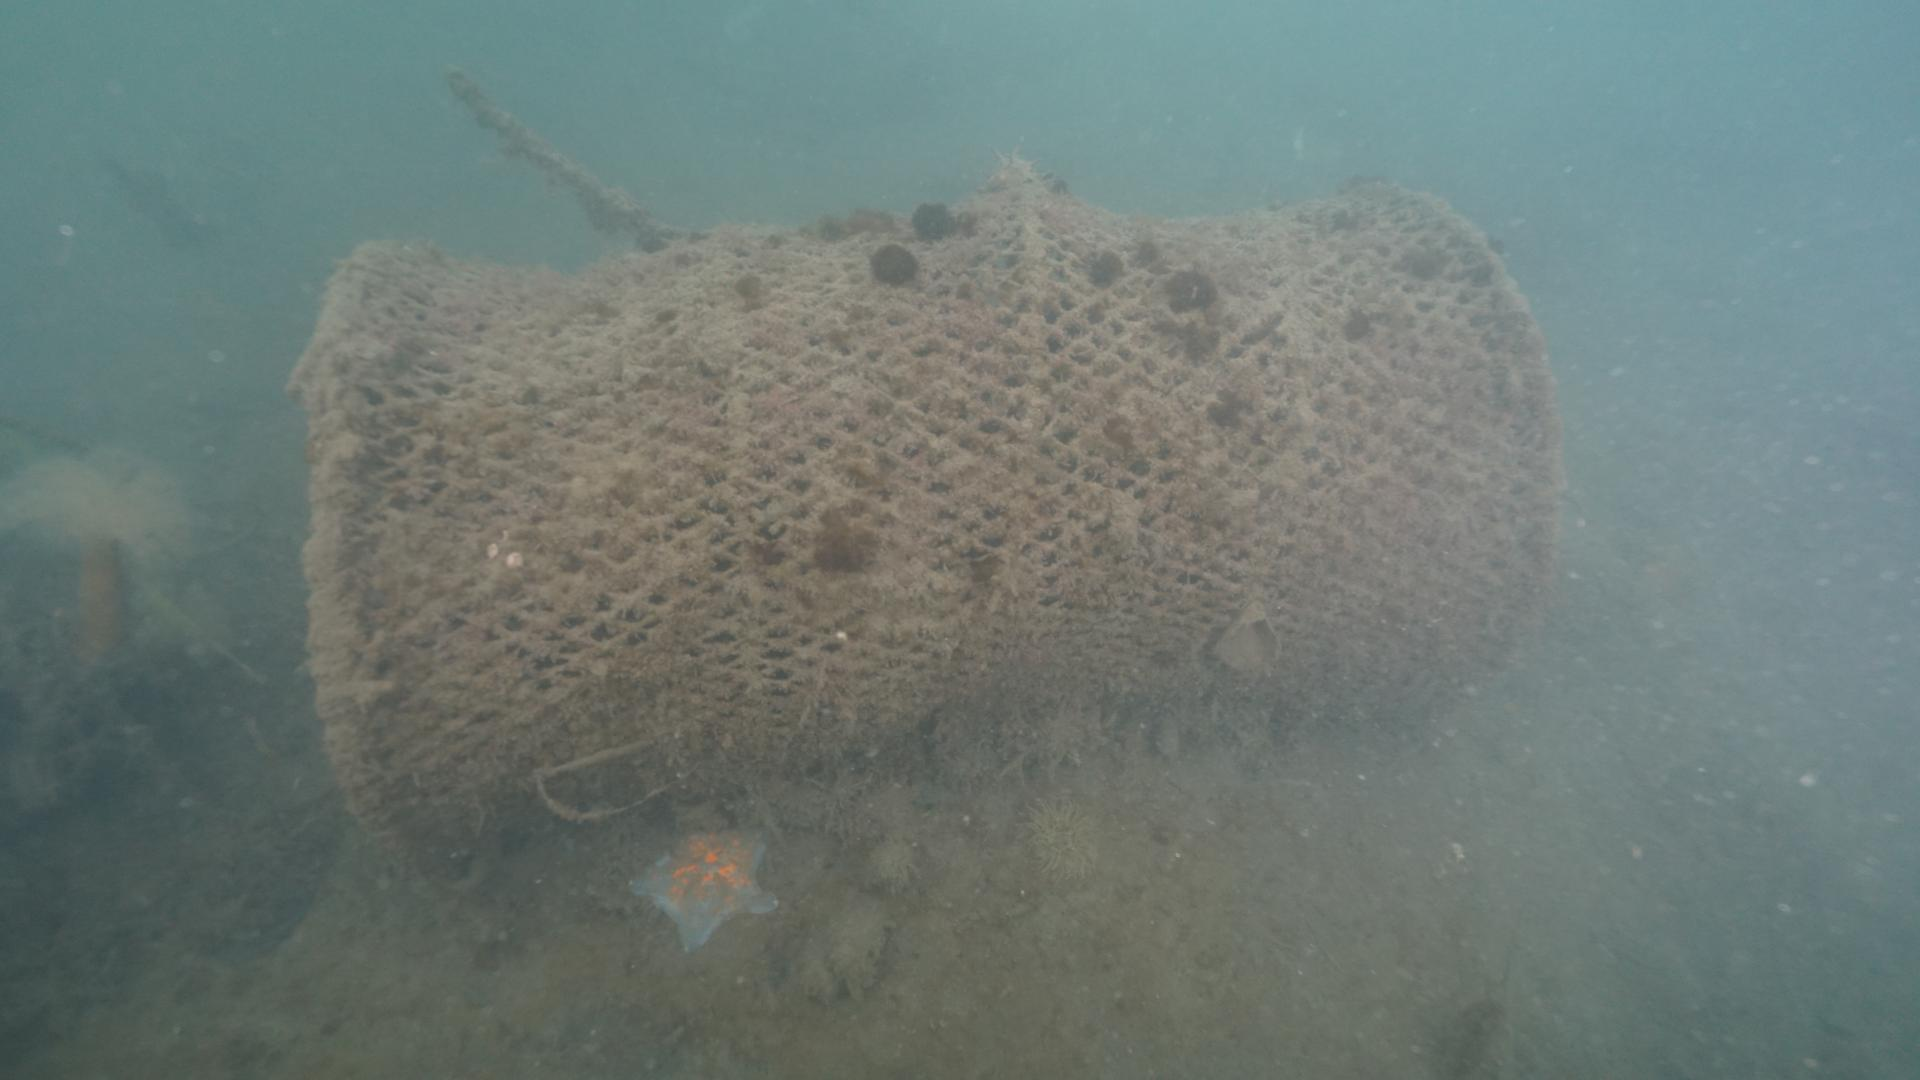rope: (440, 62, 662, 229)
spring fish trap: (299, 142, 1564, 903)
